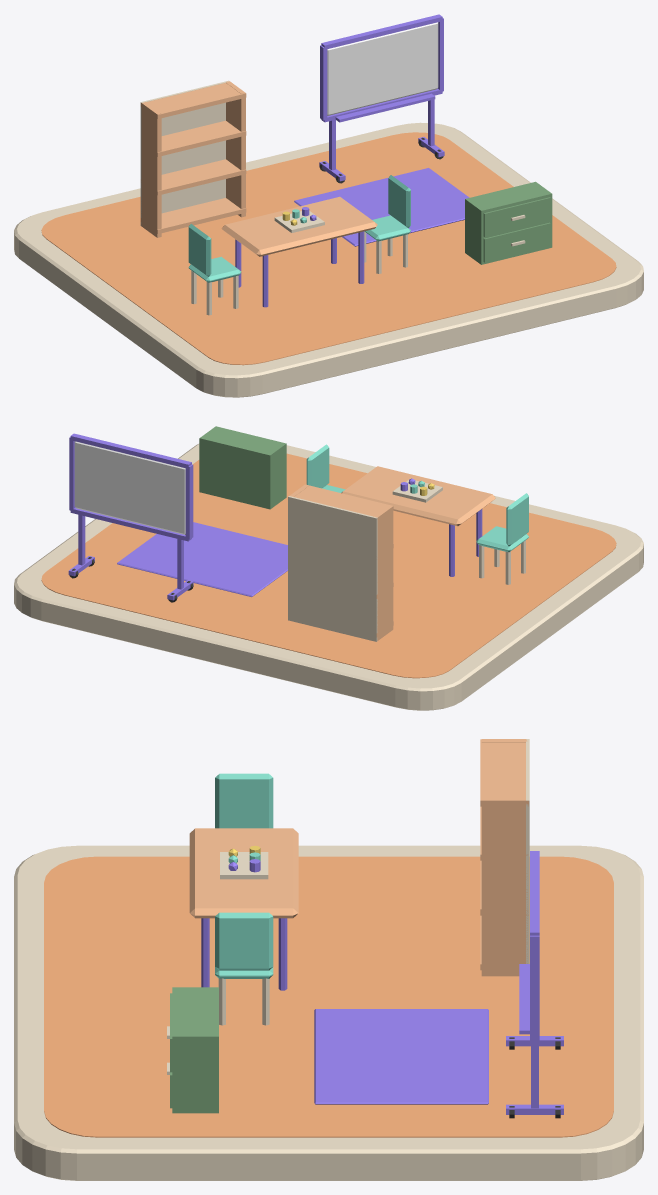
Rendered from room.fbx.
The picture shows the model from 3 angles, top to bottom: view 1: azimuth 30°, elevation 25°; view 2: azimuth 150°, elevation 25°; view 3: azimuth 270°, elevation 25°; orthographic projection. The views are drawn at different scales.
Parts seen in each view (by area): view 1: COM-02 Floor Surface, COM-01 Rounded Base Direct, Writing surface, Cabinet, Rug, Rounded table top, Back, Side, Side.001, Shelf.003, Shelf.001, Shelf.002 (+8 smaller); view 2: COM-02 Floor Surface, COM-01 Rounded Base Direct, Back, Writing surface, Rug, Cabinet, Rounded table top, Side, Shelf.003, Frame rail.001, Backrest, Backrest.001 (+5 smaller); view 3: COM-02 Floor Surface, COM-01 Rounded Base Direct, Rug, Rounded table top, Side.001, Cabinet, Backrest.001, Backrest, Shelf.003, Frame upright.001, Activity board, Back (+4 smaller).
Boxes of the visible parts, x1,y1,x2,y2 form: COM-02 Floor Surface: (41,132,616,365); COM-01 Rounded Base Direct: (14,122,643,397); Writing surface: (327,22,438,115); Cabinet: (465,181,552,264); Rug: (294,168,469,246); Rounded table top: (222,196,377,256); Back: (140,80,229,225); Side: (141,102,161,237); Side.001: (226,81,245,217); Shelf.003: (140,83,246,118); Shelf.001: (140,159,246,195); Shelf.002: (141,120,246,156); COM-02 Floor Surface: (41,453,616,678); COM-01 Rounded Base Direct: (14,444,643,710); Back: (288,496,377,641); Writing surface: (74,441,185,534); Rug: (117,522,287,596); Cabinet: (199,426,286,509); Rounded table top: (341,466,495,526); Side: (373,505,393,640); Shelf.003: (294,484,393,521); Frame rail.001: (70,433,191,468); Backrest: (506,493,528,546); Backrest.001: (306,444,329,488); COM-02 Floor Surface: (44,856,613,1137); COM-01 Rounded Base Direct: (14,845,643,1180); Rug: (314,1009,488,1104); Rounded table top: (189,828,298,918); Side.001: (481,797,527,976); Cabinet: (167,987,218,1113); Backrest.001: (215,912,273,970); Backrest: (215,773,273,828); Shelf.003: (480,739,528,806); Frame upright.001: (530,935,539,1039); Activity board: (220,852,268,879); Back: (526,739,529,963).
Bounding box in the file's own units: 600 × 204 × 520.
